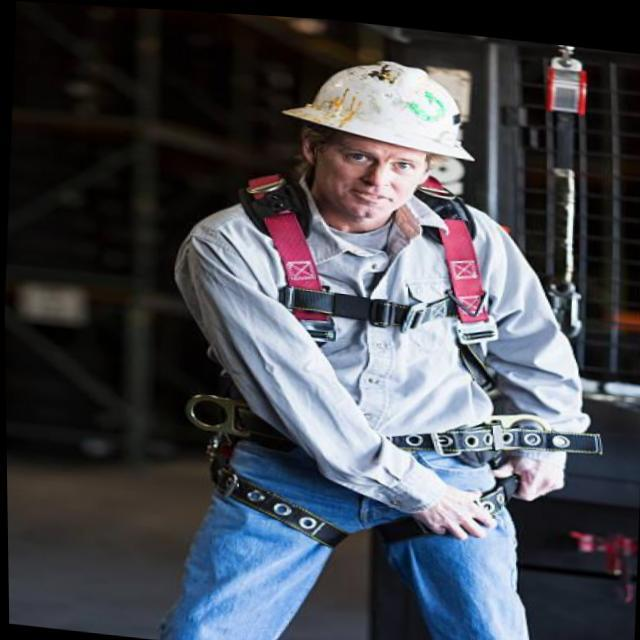belt: (196, 148, 524, 560)
